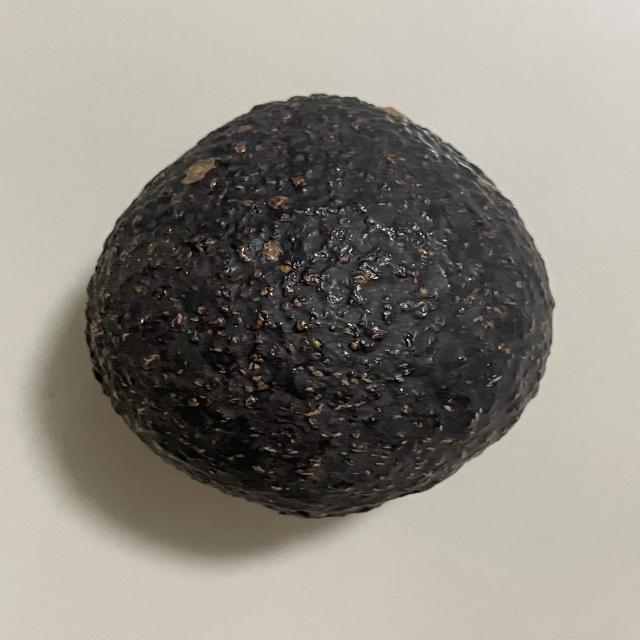Level3: (72, 83, 567, 528)
